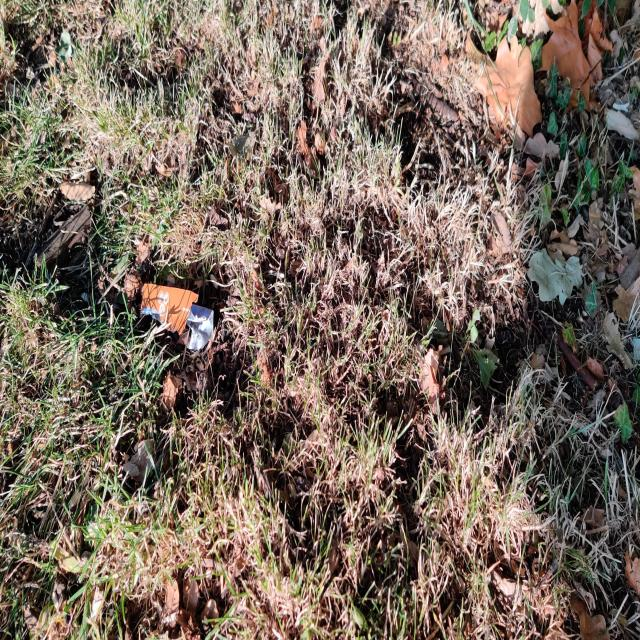litter: (123, 252, 223, 375)
